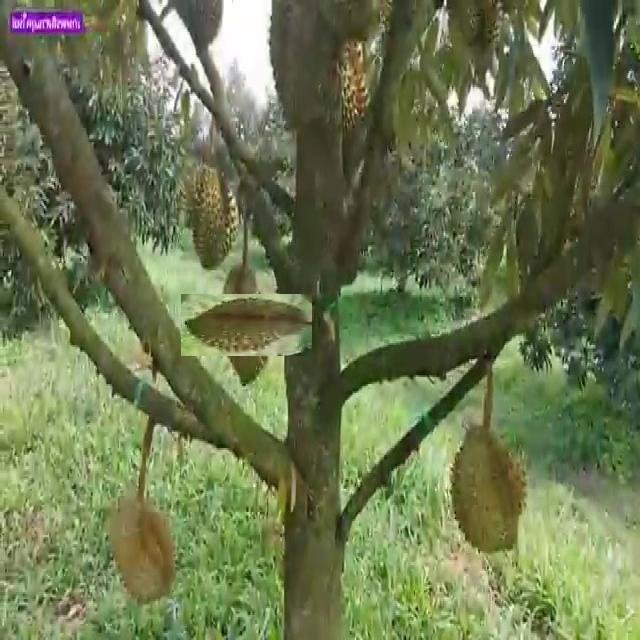durian: (260, 0, 387, 139), (448, 419, 527, 561), (198, 276, 295, 373), (107, 490, 179, 610), (189, 155, 243, 275), (158, 0, 227, 58)
